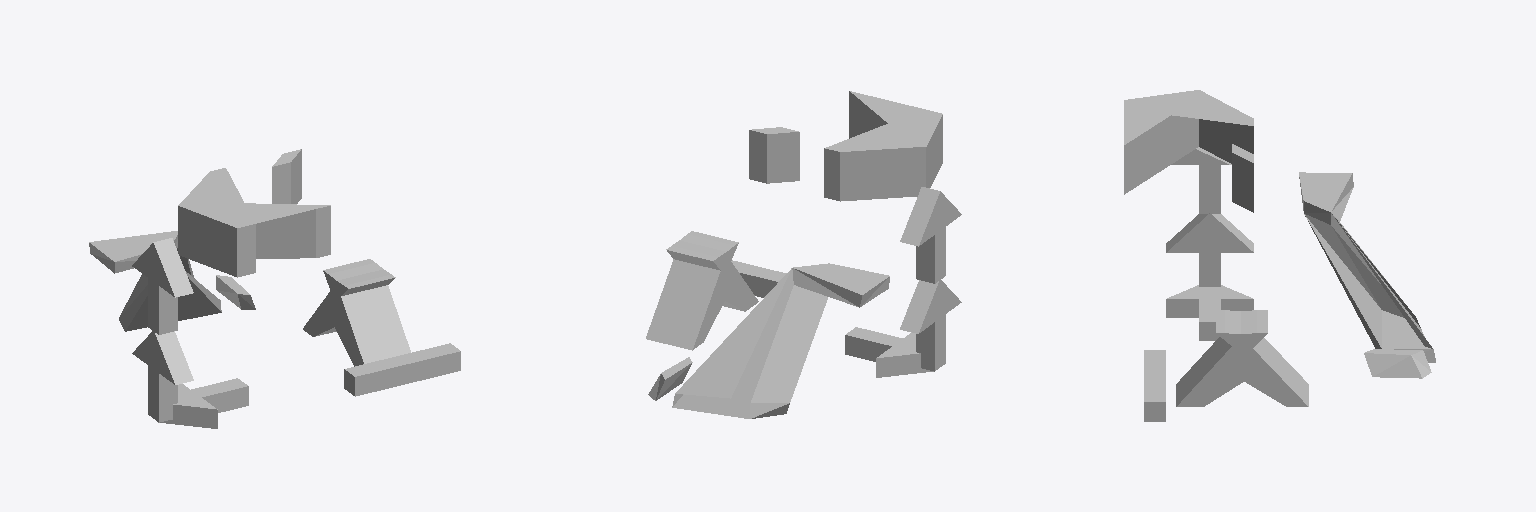
File: maya_axes_anim_lefthanded_8.obj
3 renders of one model, left to right at view 1: azimuth 30°, elevation 25°; view 2: azimuth 150°, elevation 25°; view 3: azimuth 270°, elevation 25°, orthographic.
Parts seen in each view (by area): view 1: Y, X, Z, ArrowZ ArrowY ArrowX, ArrowZ ArrowY, ArrowZ; view 2: Z, Y, X, ArrowZ ArrowY ArrowX, ArrowZ ArrowY, ArrowZ; view 3: Z, Y, X, ArrowZ ArrowY, ArrowZ, ArrowZ ArrowY ArrowX.
Boxes of the visible parts, x1,y1,x2,y2 form: Y: [178, 149, 330, 277]; X: [303, 259, 460, 396]; Z: [89, 231, 255, 331]; ArrowZ ArrowY ArrowX: [132, 238, 193, 334]; ArrowZ ArrowY: [132, 331, 193, 422]; ArrowZ: [158, 378, 248, 428]; Z: [648, 263, 889, 418]; Y: [749, 91, 942, 201]; X: [646, 231, 786, 350]; ArrowZ ArrowY ArrowX: [900, 187, 961, 283]; ArrowZ ArrowY: [900, 280, 961, 371]; ArrowZ: [845, 327, 933, 377]; Z: [1299, 172, 1435, 378]; Y: [1124, 90, 1253, 212]; X: [1144, 310, 1308, 421]; ArrowZ ArrowY: [1166, 213, 1253, 286]; ArrowZ: [1166, 285, 1253, 340]; ArrowZ ArrowY ArrowX: [1171, 149, 1228, 213].
Bounding box in the file's own units: 14.57 × 11 × 14.36.